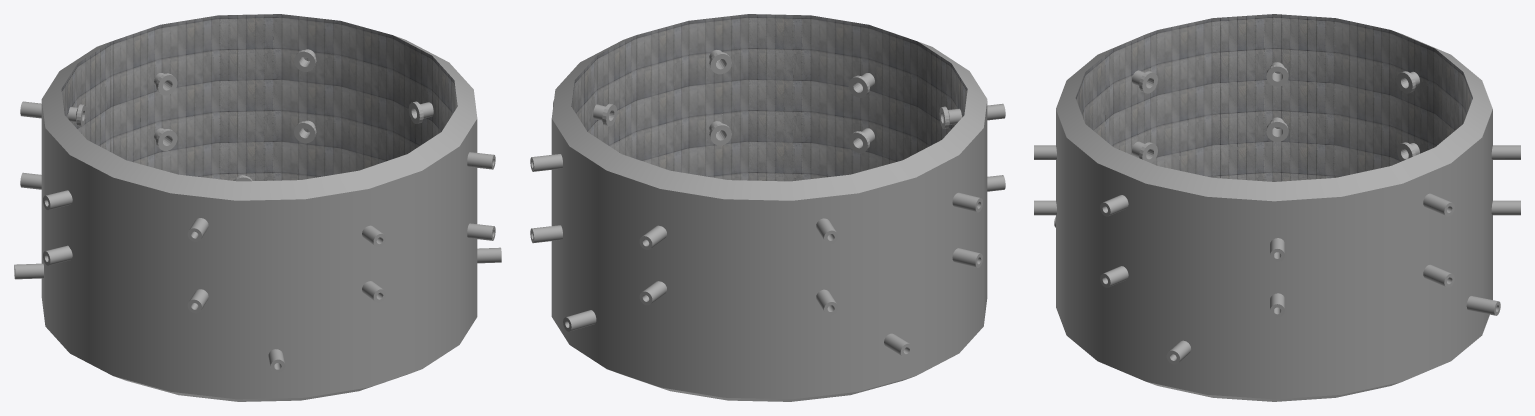
The model's file is SewerTestMeshOUT.fbx.
3 views of the same model, side by side, from view 1: azimuth 30°, elevation 25°; view 2: azimuth 150°, elevation 25°; view 3: azimuth 270°, elevation 25° (orthographic).
Visible parts, largest first — view 1: polySurface1; view 2: polySurface1; view 3: polySurface1.
Part boxes in pixels (<box>): polySurface1: <box>14,14,501,401</box>; polySurface1: <box>530,14,1005,401</box>; polySurface1: <box>1034,14,1520,401</box>.
Size of the model in its own units: 65.14 by 32.48 by 65.14.
Materials: 2 (1 with a texture image).
